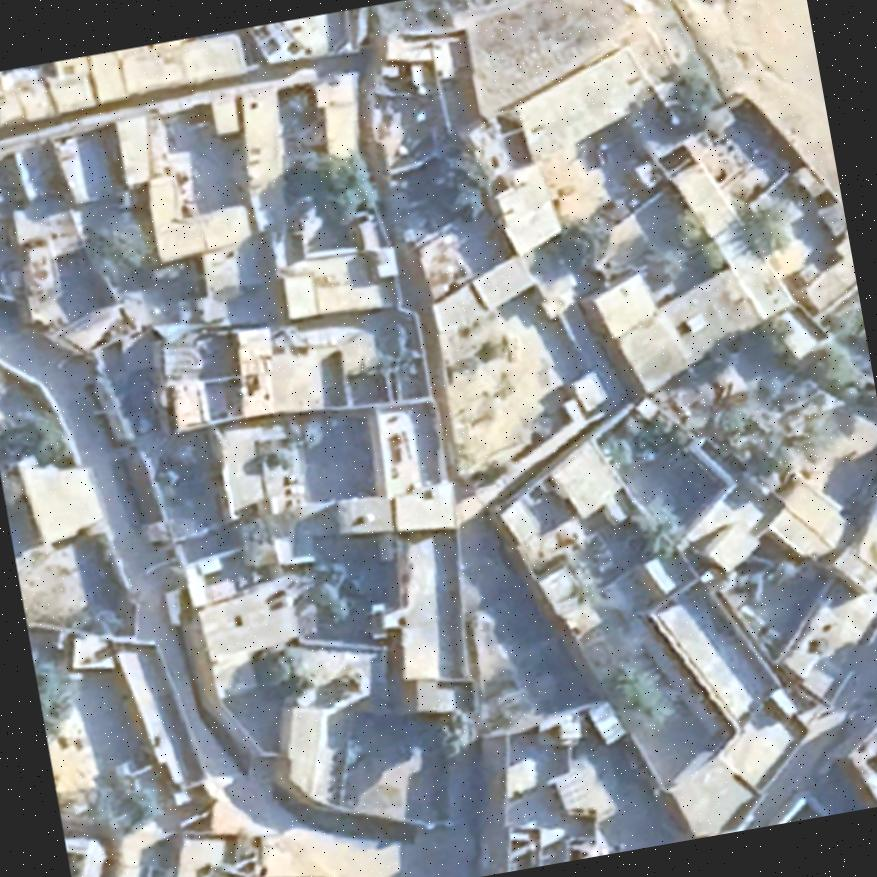Solarpanel: (550, 768, 600, 812), (262, 20, 304, 50)
